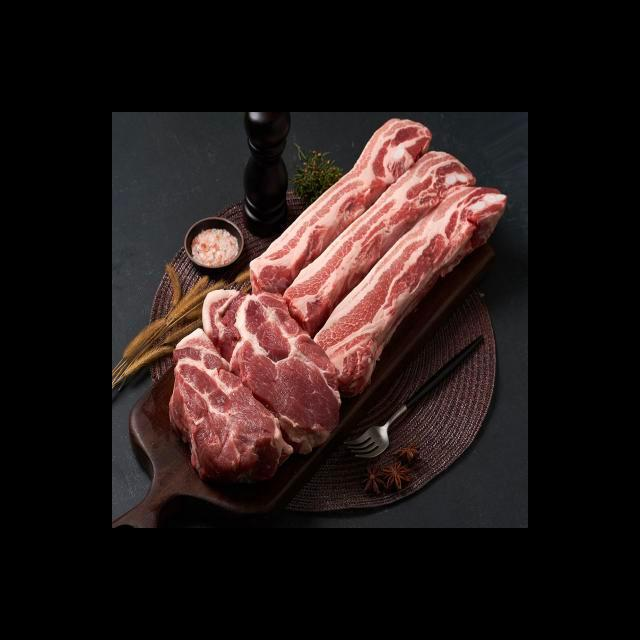pork: (290, 112, 508, 378), (188, 276, 342, 486)
